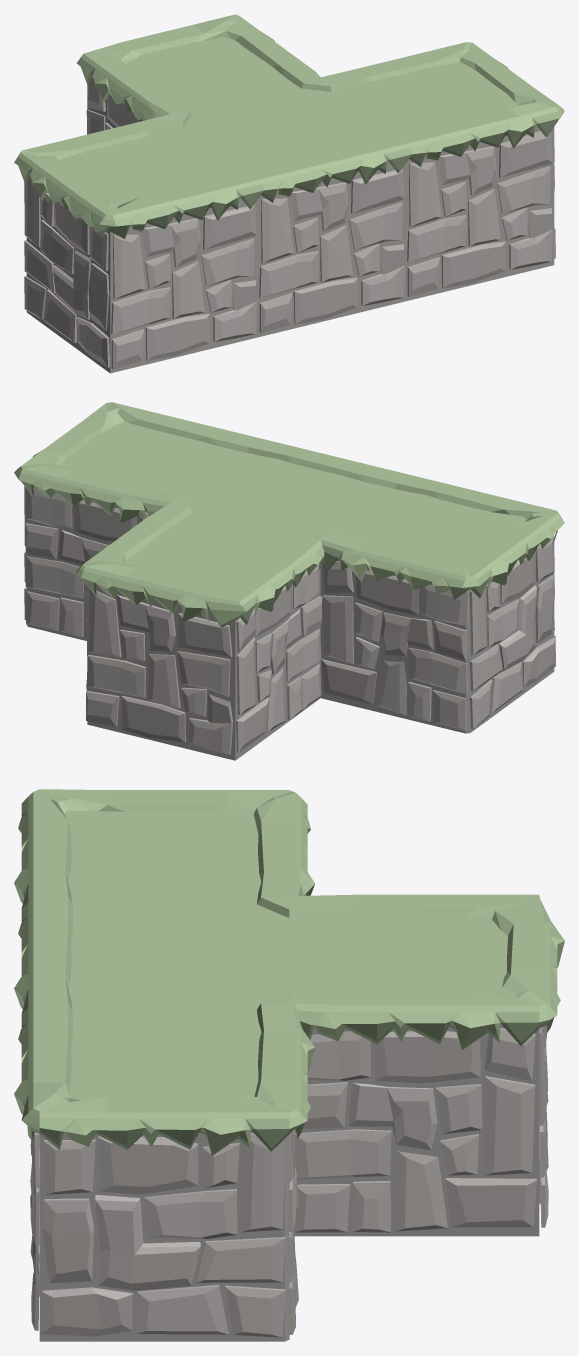
File: ER_Asset_Puzzle_ButtonPlatform.fbx
The picture shows the model from 3 angles, top to bottom: view 1: azimuth 30°, elevation 25°; view 2: azimuth 150°, elevation 25°; view 3: azimuth 270°, elevation 25°; orthographic projection. The views are drawn at different scales.
Visible parts, largest first — view 1: polySurface5759; view 2: polySurface5759; view 3: polySurface5759.
Part boxes in pixels (x1=…): polySurface5759: x1=14, y1=14, x2=564, y2=373; polySurface5759: x1=14, y1=402, x2=564, y2=760; polySurface5759: x1=14, y1=789, x2=564, y2=1341.
Bounding box in the file's own units: 3.21 × 1.05 × 2.21.
